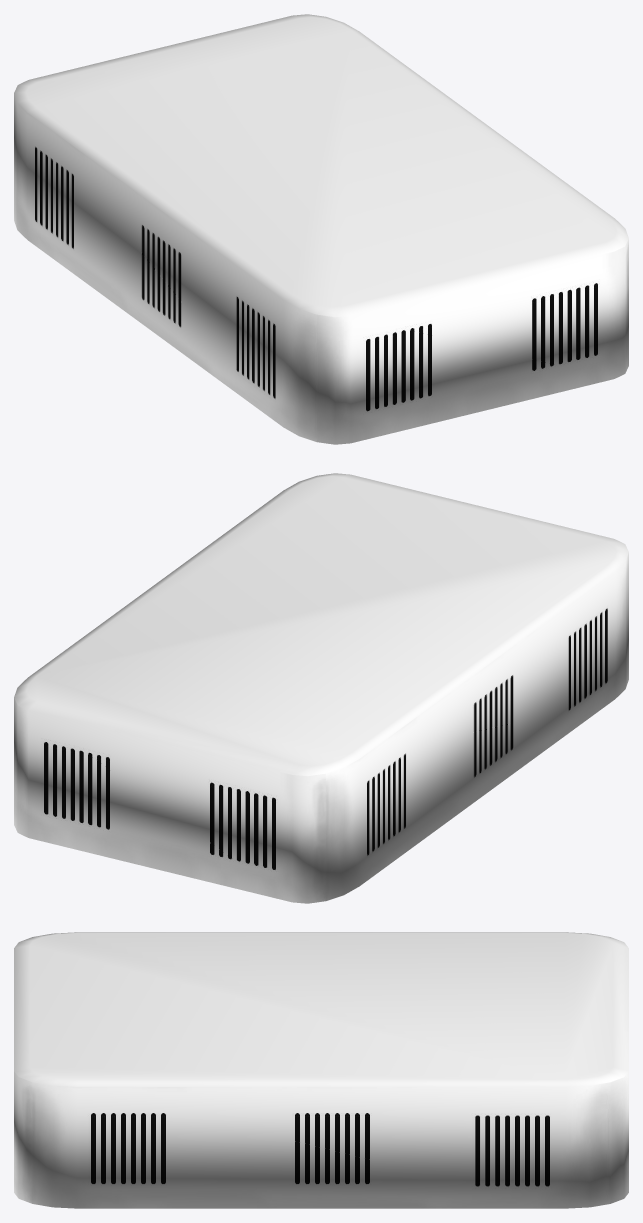
File: LEDLight.fbx
3 renders of one model, top to bottom at view 1: azimuth 30°, elevation 25°; view 2: azimuth 150°, elevation 25°; view 3: azimuth 270°, elevation 25°, orthographic. The views are drawn at different scales.
Parts seen in each view (by area): view 1: Cube; view 2: Cube; view 3: Cube.
Part boxes in pixels (box(x1,y1,x2,y2)): Cube: box(14, 14, 628, 444); Cube: box(14, 473, 628, 903); Cube: box(14, 932, 628, 1208).
Size of the model in its own units: 119 by 46.06 by 200.
Materials: 1 (1 with a texture image).
